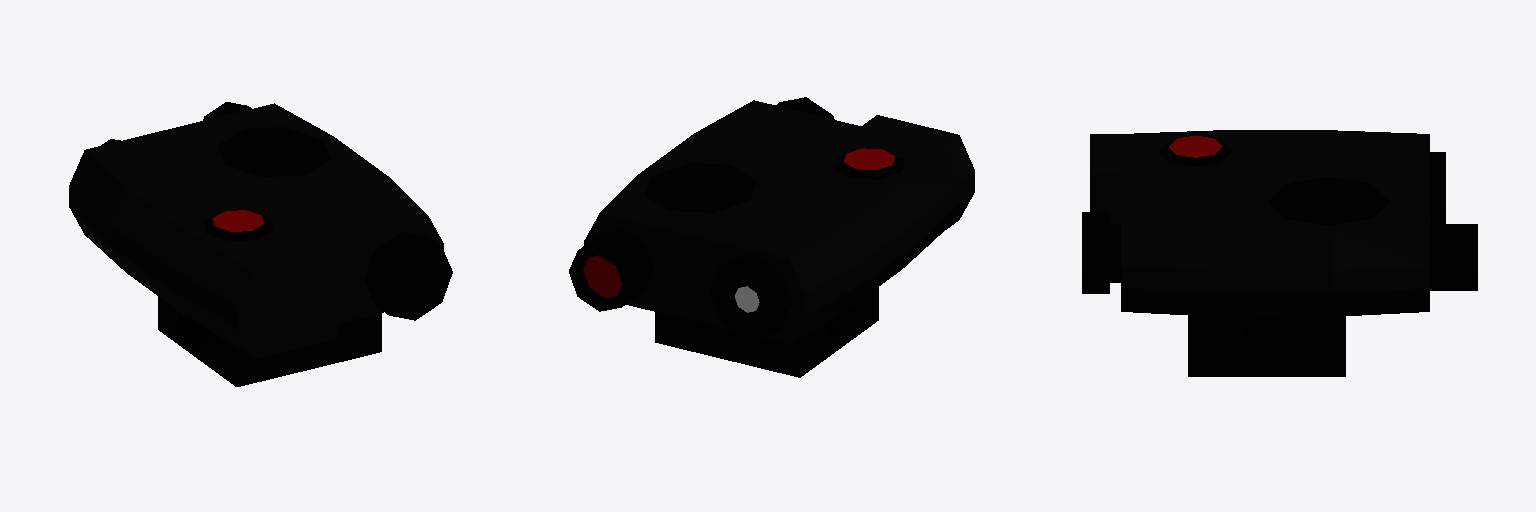
The model's file is Laser_East.obj.
3 renders of one model, left to right at view 1: azimuth 30°, elevation 25°; view 2: azimuth 150°, elevation 25°; view 3: azimuth 270°, elevation 25°, orthographic.
Visible parts, largest first — view 1: Laser_East; view 2: Laser_East; view 3: Laser_East.
Part boxes in pixels (bbox=[...]): Laser_East: bbox=[69, 102, 452, 386]; Laser_East: bbox=[569, 97, 974, 377]; Laser_East: bbox=[1082, 130, 1477, 376].
Bounding box in the file's own units: 0.0768 × 0.0496 × 0.1087.